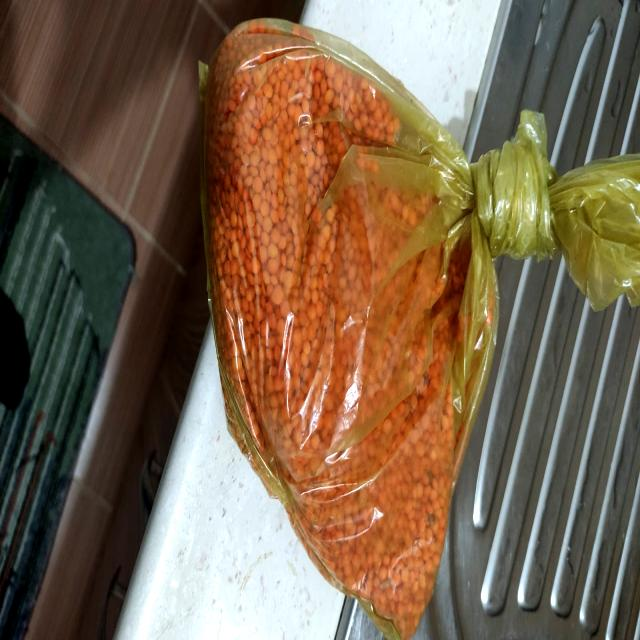red lentils: (209, 41, 484, 622)
